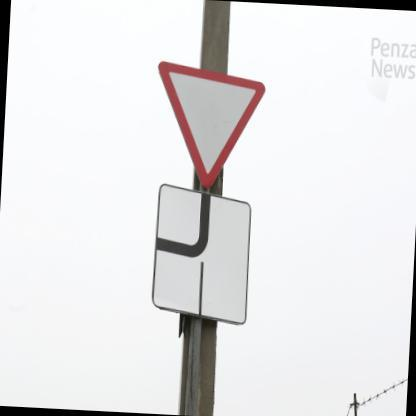road_sign: (153, 184, 250, 323), (159, 62, 265, 188)
